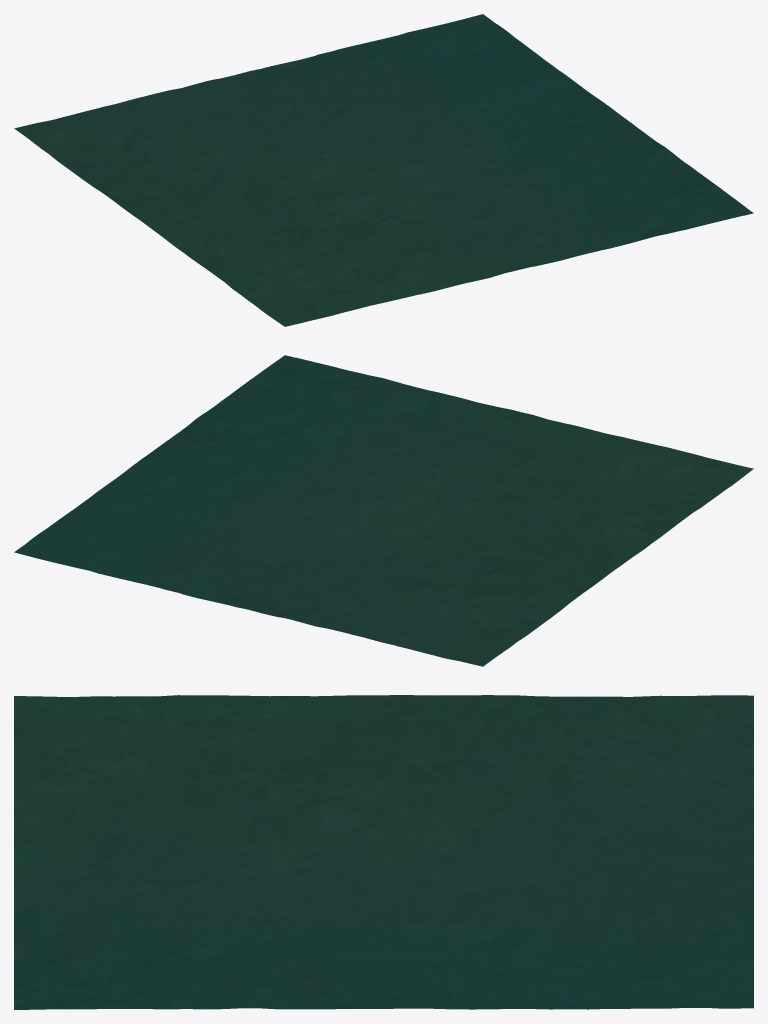
3 views of the same model, one above another, from view 1: azimuth 30°, elevation 25°; view 2: azimuth 150°, elevation 25°; view 3: azimuth 270°, elevation 25° (orthographic). The views are drawn at different scales.
Size of the model in its own units: 104 by 0.5865 by 104.
2 materials, 2 textured.
